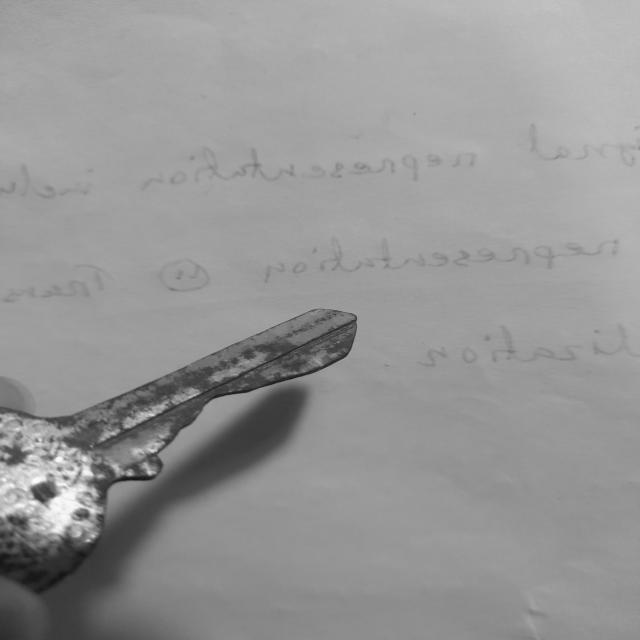key: (0, 309, 356, 593)
